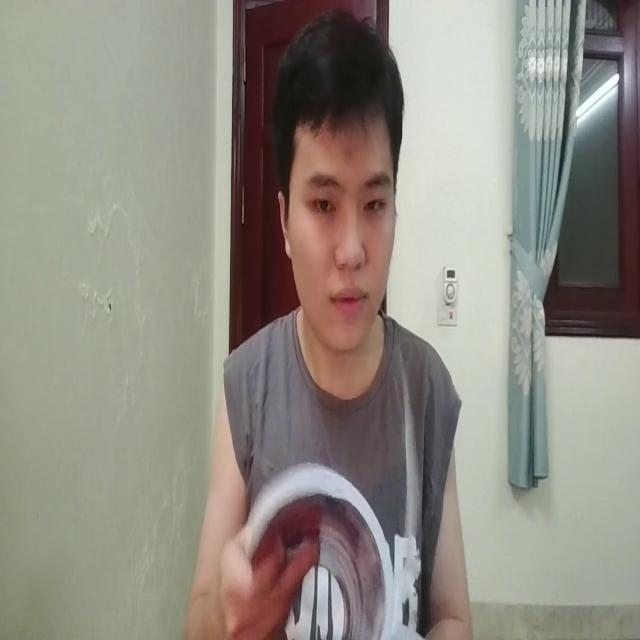book: (226, 449, 404, 640)
student: (178, 8, 474, 640)
